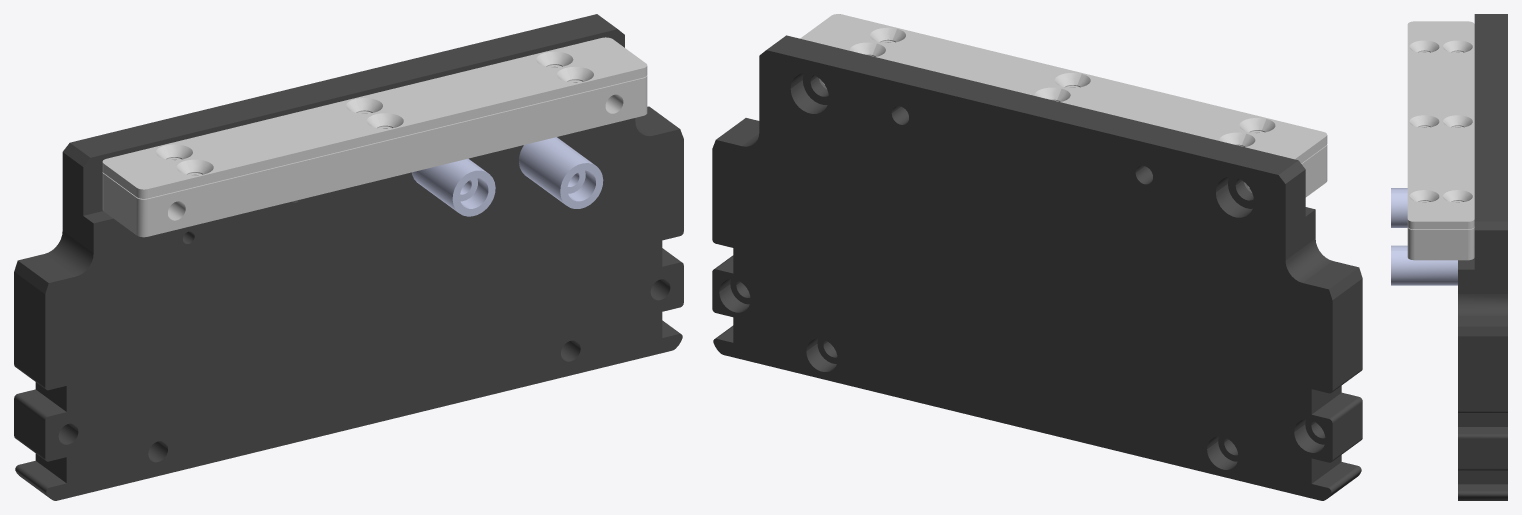
The model's file is 178-duangaiban.glb.
3 renders of one model, left to right at view 1: azimuth 30°, elevation 25°; view 2: azimuth 150°, elevation 25°; view 3: azimuth 270°, elevation 25°, orthographic. The views are drawn at different scales.
Parts seen in each view (by area): view 1: empty_4, empty_5, empty_2; view 2: empty_4, empty_5; view 3: empty_4, empty_5, empty_2.
Part boxes in pixels (bbox=[...]): empty_4: bbox=[14, 14, 683, 500]; empty_5: bbox=[102, 37, 647, 237]; empty_2: bbox=[411, 137, 603, 216]; empty_4: bbox=[712, 35, 1362, 500]; empty_5: bbox=[800, 14, 1327, 197]; empty_4: bbox=[1458, 14, 1507, 500]; empty_5: bbox=[1407, 21, 1474, 260]; empty_2: bbox=[1391, 188, 1457, 285].
Size of the model in its own units: 178 by 86.49 by 35.
